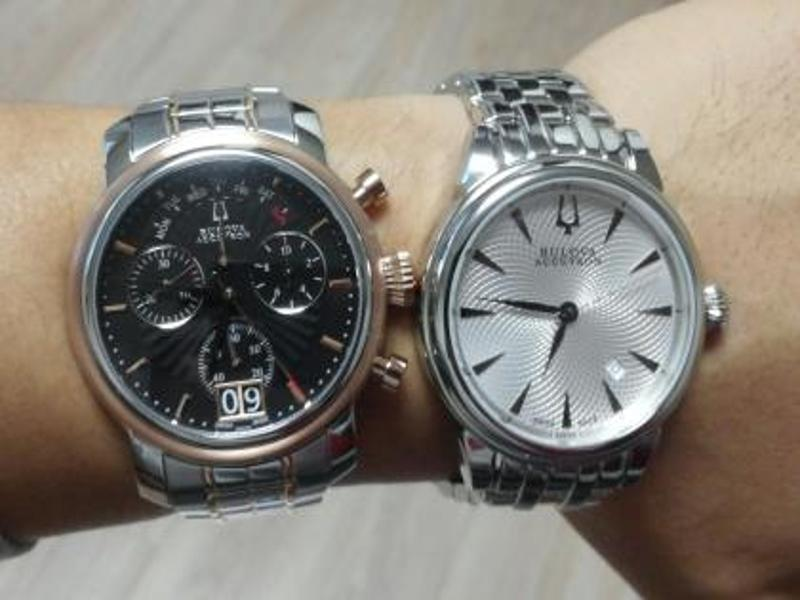watch: (68, 87, 412, 526), (417, 71, 726, 515)
